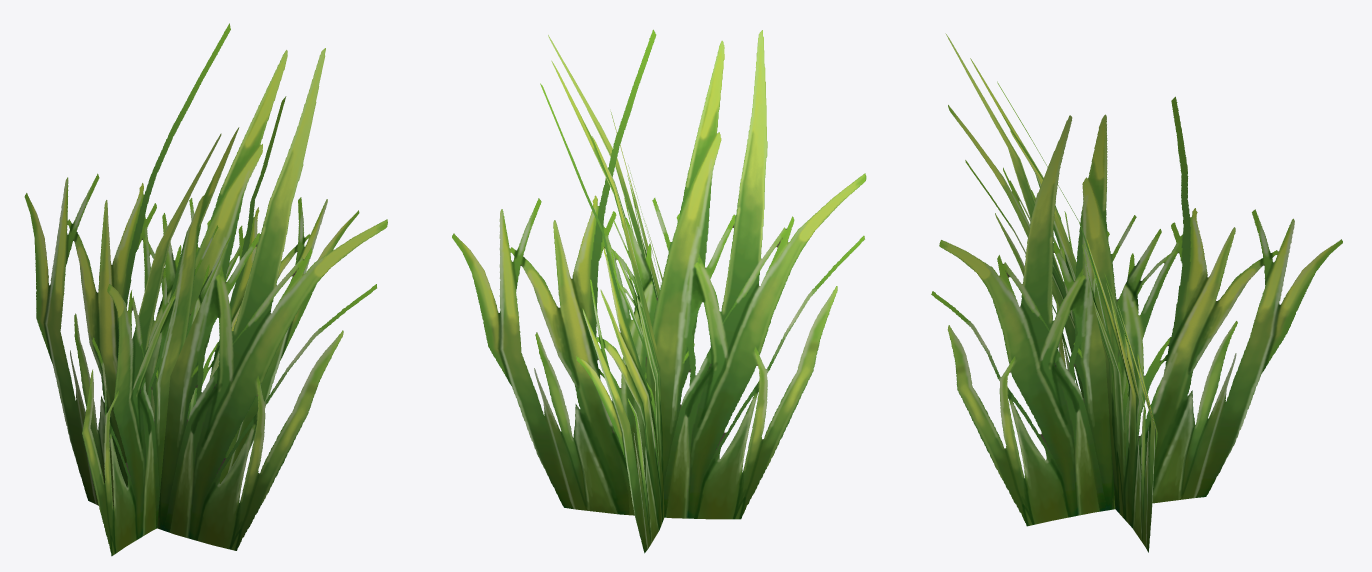
Rendered from Grass3.FBX.
3 views of the same model, side by side, from view 1: azimuth 30°, elevation 25°; view 2: azimuth 150°, elevation 25°; view 3: azimuth 270°, elevation 25° (orthographic). The views are drawn at different scales.
Parts seen in each view (by area): view 1: Grass3; view 2: Grass3; view 3: Grass3.
Part boxes in pixels (x1=…): Grass3: x1=24, y1=23, x2=387, y2=556; Grass3: x1=452, y1=29, x2=866, y2=553; Grass3: x1=931, y1=33, x2=1342, y2=552.
Size of the model in its own units: 97.53 by 117 by 97.53.
